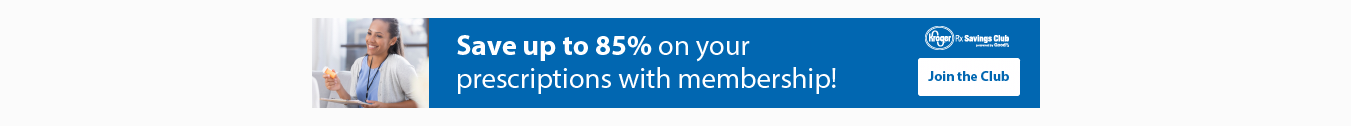fake_button: (912, 55, 1033, 106)
